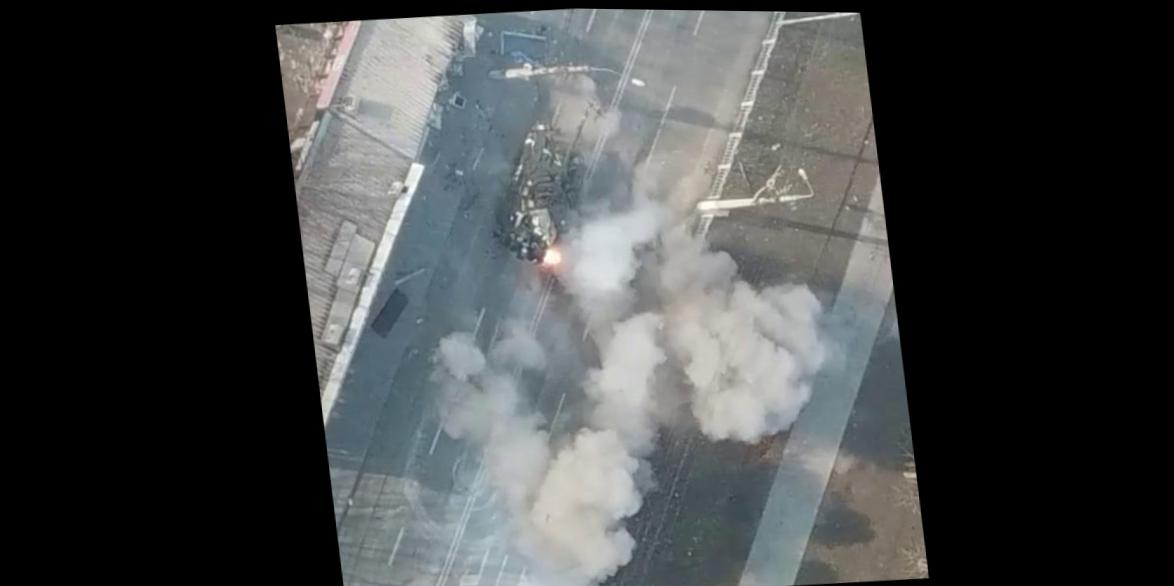tank: (482, 100, 611, 268)
